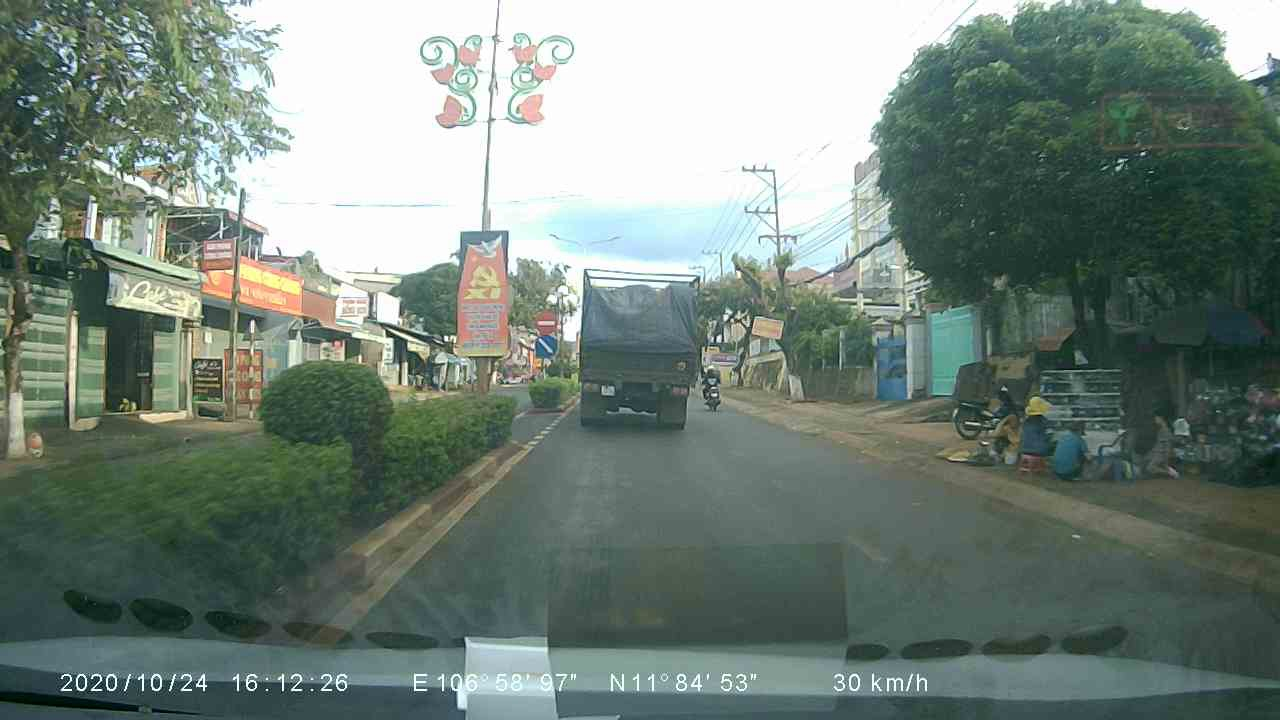Cam di nguoc chieu: (534, 308, 558, 334)
Huong di phai re phai: (532, 335, 560, 359)
